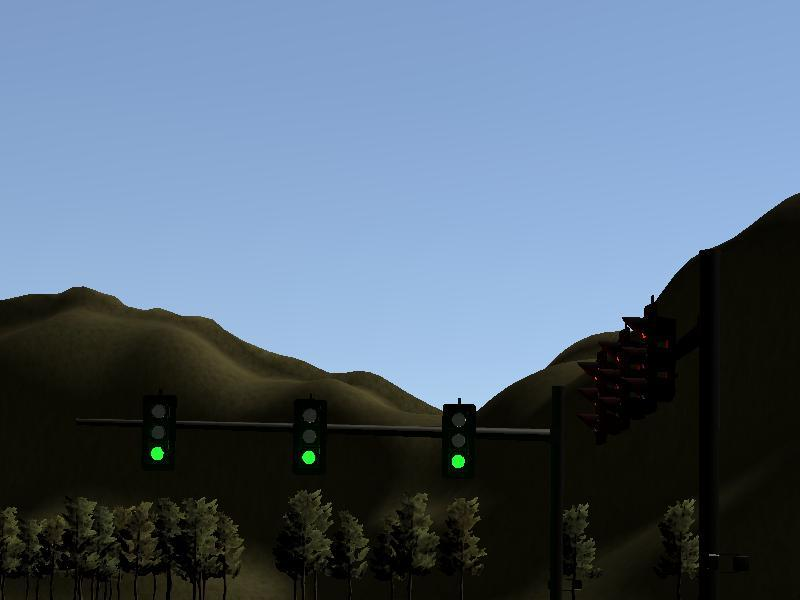Green: (444, 403, 477, 485), (292, 398, 325, 477), (143, 396, 175, 471)
